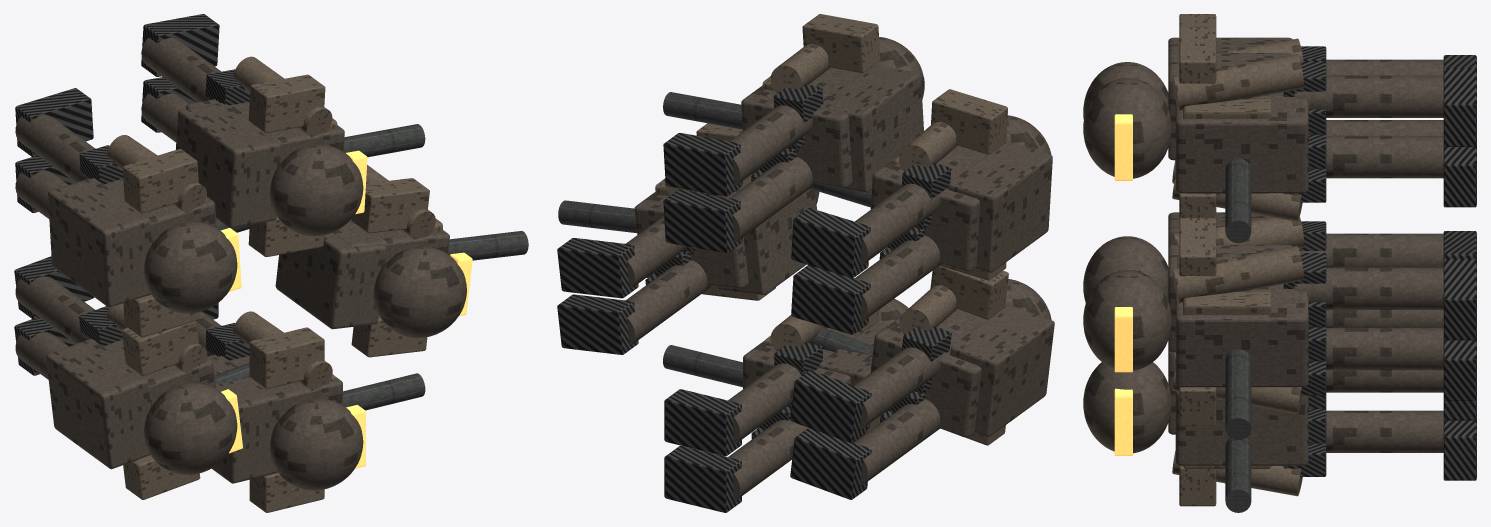
The model's file is d-u01-dominion-line-infantry-lod0.glb.
3 renders of one model, left to right at view 1: azimuth 30°, elevation 25°; view 2: azimuth 150°, elevation 25°; view 3: azimuth 270°, elevation 25°, orthographic. The views are drawn at different scales.
Visible parts, largest first — view 1: soldier_3_backpack, soldier_4_backpack, soldier_1_backpack, soldier_0_backpack, soldier_3_helmet, soldier_4_helmet, soldier_2_helmet, soldier_1_helmet, soldier_0_helmet, soldier_2_backpack, soldier_3_shoulder_1, soldier_2_shoulder_1 (+37 smaller); view 2: soldier_3_backpack, soldier_4_backpack, soldier_1_backpack, soldier_4_torso, soldier_3_torso, soldier_1_torso, soldier_4_boot_1, soldier_0_backpack, soldier_3_boot_1, soldier_2_boot_1, soldier_2_boot_-1, soldier_3_boot_-1 (+38 smaller); view 3: soldier_0_torso, soldier_1_torso, soldier_0_helmet, soldier_1_helmet, soldier_2_torso, soldier_0_leg_1, soldier_1_leg_1, soldier_2_helmet, soldier_2_leg_-1, soldier_1_leg_-1, soldier_0_leg_-1, soldier_4_leg_1 (+51 smaller).
Part boxes in pixels (box(x1,y1,x2,y2)): soldier_3_backpack: box(48, 178, 151, 307); soldier_4_backpack: box(46, 338, 151, 469); soldier_1_backpack: box(176, 103, 280, 228); soldier_0_backpack: box(275, 232, 386, 329); soldier_3_helmet: box(144, 221, 237, 313); soldier_4_helmet: box(144, 383, 237, 474); soldier_2_helmet: box(270, 399, 363, 490); soldier_1_helmet: box(270, 144, 363, 236); soldier_0_helmet: box(373, 246, 466, 337); soldier_2_backpack: box(210, 356, 278, 483); soldier_3_shoulder_1: box(122, 149, 198, 213); soldier_2_shoulder_1: box(249, 327, 324, 388); soldier_3_backpack: box(948, 142, 1052, 272); soldier_4_backpack: box(950, 304, 1054, 436); soldier_1_backpack: box(820, 65, 923, 192); soldier_4_torso: box(870, 309, 986, 437); soldier_3_torso: box(870, 145, 987, 271); soldier_1_torso: box(741, 67, 861, 187); soldier_4_boot_1: box(790, 370, 871, 443); soldier_0_backpack: box(717, 189, 816, 294); soldier_3_boot_1: box(791, 208, 870, 278); soldier_2_boot_1: box(664, 389, 741, 456); soldier_2_boot_-1: box(664, 446, 741, 512); soldier_3_boot_-1: box(791, 265, 870, 334); soldier_0_torso: box(1175, 253, 1308, 387); soldier_1_torso: box(1175, 92, 1308, 193); soldier_0_helmet: box(1083, 270, 1171, 370); soldier_1_helmet: box(1083, 78, 1171, 178); soldier_2_torso: box(1175, 391, 1308, 465); soldier_0_leg_1: box(1294, 267, 1443, 309); soldier_1_leg_1: box(1294, 75, 1443, 117); soldier_2_helmet: box(1083, 362, 1171, 453); soldier_2_leg_-1: box(1308, 410, 1443, 452); soldier_1_leg_-1: box(1309, 136, 1443, 178); soldier_0_leg_-1: box(1326, 328, 1443, 370); soldier_4_leg_1: box(1299, 233, 1443, 267).
Size of what is drawn, in the model's own units: 3.06 by 2.69 by 2.13.
5 materials, 5 textured.
